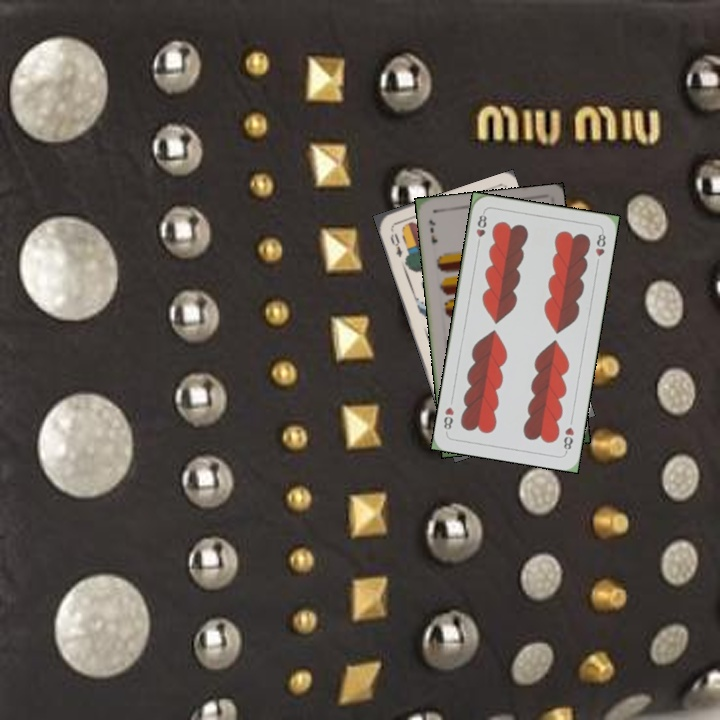E7: (425, 216, 440, 246)
EO: (386, 228, 406, 260)
H8: (472, 209, 489, 249), (560, 423, 577, 455)
